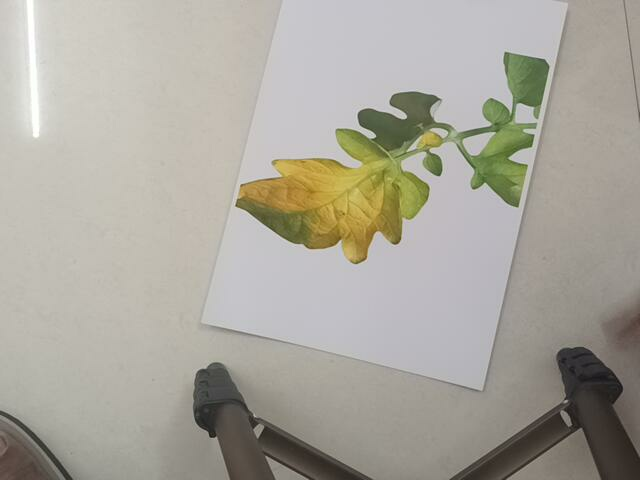Tomamto_Yellow_Disease: (232, 36, 561, 264)
